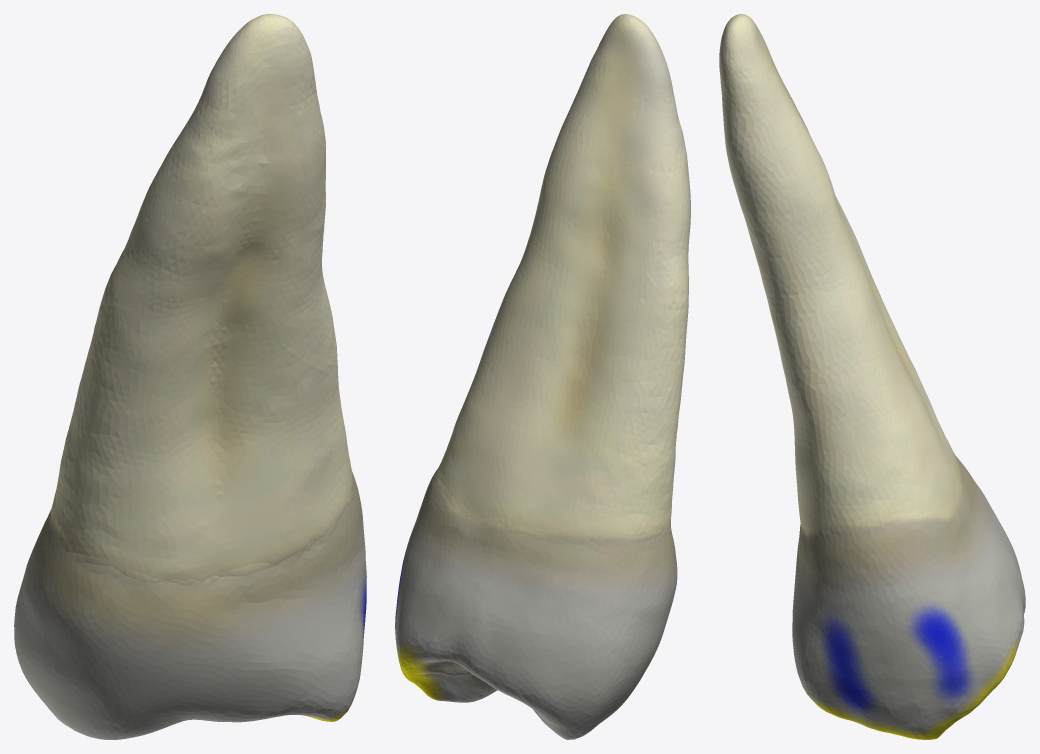
Rendered from 25 - segundo premolar superior esquerdo - face vestibular.glb.
3 renders of one model, left to right at view 1: azimuth 30°, elevation 25°; view 2: azimuth 150°, elevation 25°; view 3: azimuth 270°, elevation 25°, orthographic. The views are drawn at different scales.
Visible parts, largest first — view 1: 3MFMeshParent_0; view 2: 3MFMeshParent_0; view 3: 3MFMeshParent_0.
Part boxes in pixels (x1,y1,x2,y2): 3MFMeshParent_0: [14, 14, 366, 739]; 3MFMeshParent_0: [395, 14, 690, 739]; 3MFMeshParent_0: [719, 14, 1025, 739].
Bounding box in the file's own units: 0.2089 × 0.512 × 0.2121.
1 material, 1 textured.
